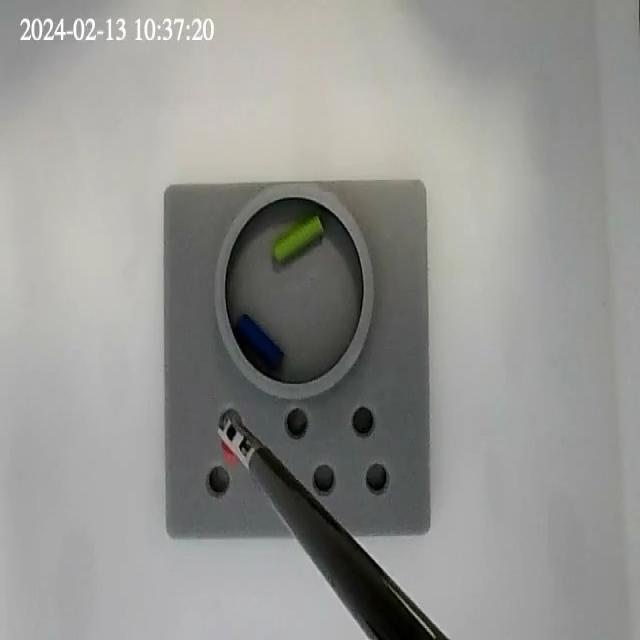EmptyHole: (206, 459, 232, 501), (310, 463, 338, 495), (219, 406, 245, 440), (284, 407, 310, 439), (365, 462, 389, 496), (352, 402, 374, 438)
